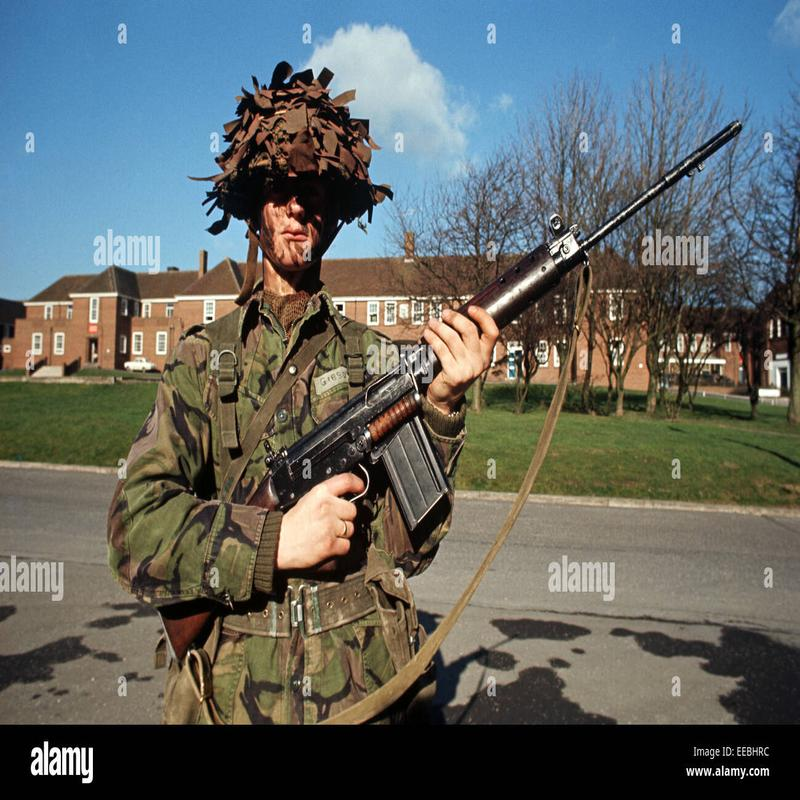GUN: (130, 109, 758, 669)
